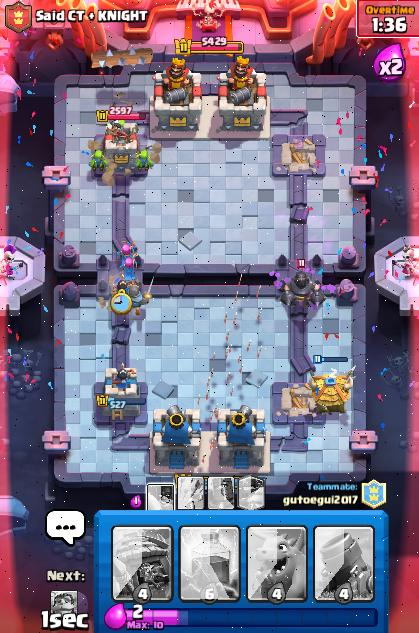EKingTower: (218, 58, 267, 130), (153, 57, 201, 130)
EMegaKnight: (280, 271, 325, 314)
EnemyPrincessTower: (104, 120, 137, 170)
OArcher: (116, 241, 136, 268), (124, 257, 135, 278)
OGoblin: (91, 150, 107, 172), (135, 150, 152, 170)
OGoblinHut: (308, 371, 352, 412)
OKnight: (128, 282, 140, 315)
OPrincess: (115, 279, 126, 293)
OwnKingTower: (218, 405, 269, 471), (150, 405, 199, 471)
OwnPrincessTower: (95, 366, 146, 422)
TowerDown: (270, 381, 326, 423), (273, 134, 325, 176)
